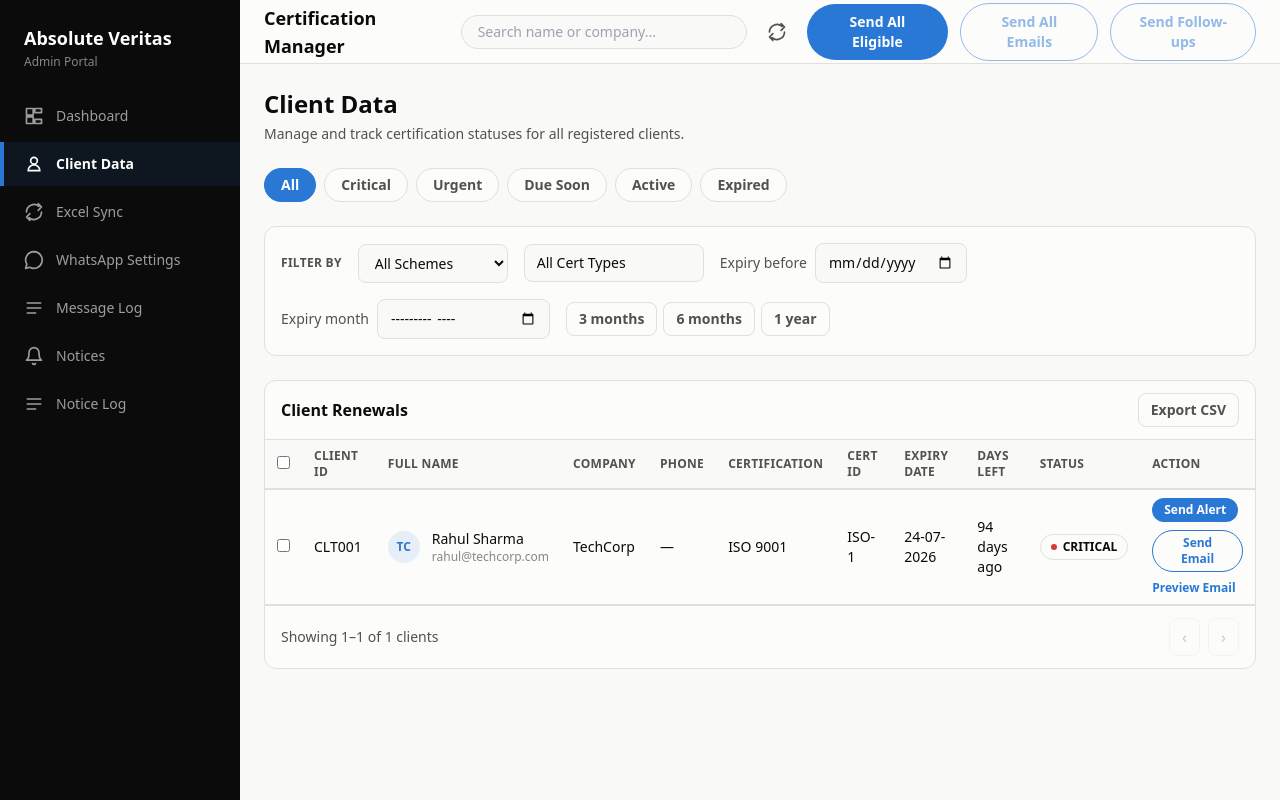
Test case: App › does not send-selected until the confirmation modal is accepted
The width and height of the screenshot is (1280, 800).
Expected: the text "Rahul Sharma" is shown, x1=432 y1=529 x2=524 y2=548
Click the checkbox named "Select Rahul Sharma" at (284, 546), box x1=277 y1=539 x2=290 y2=552
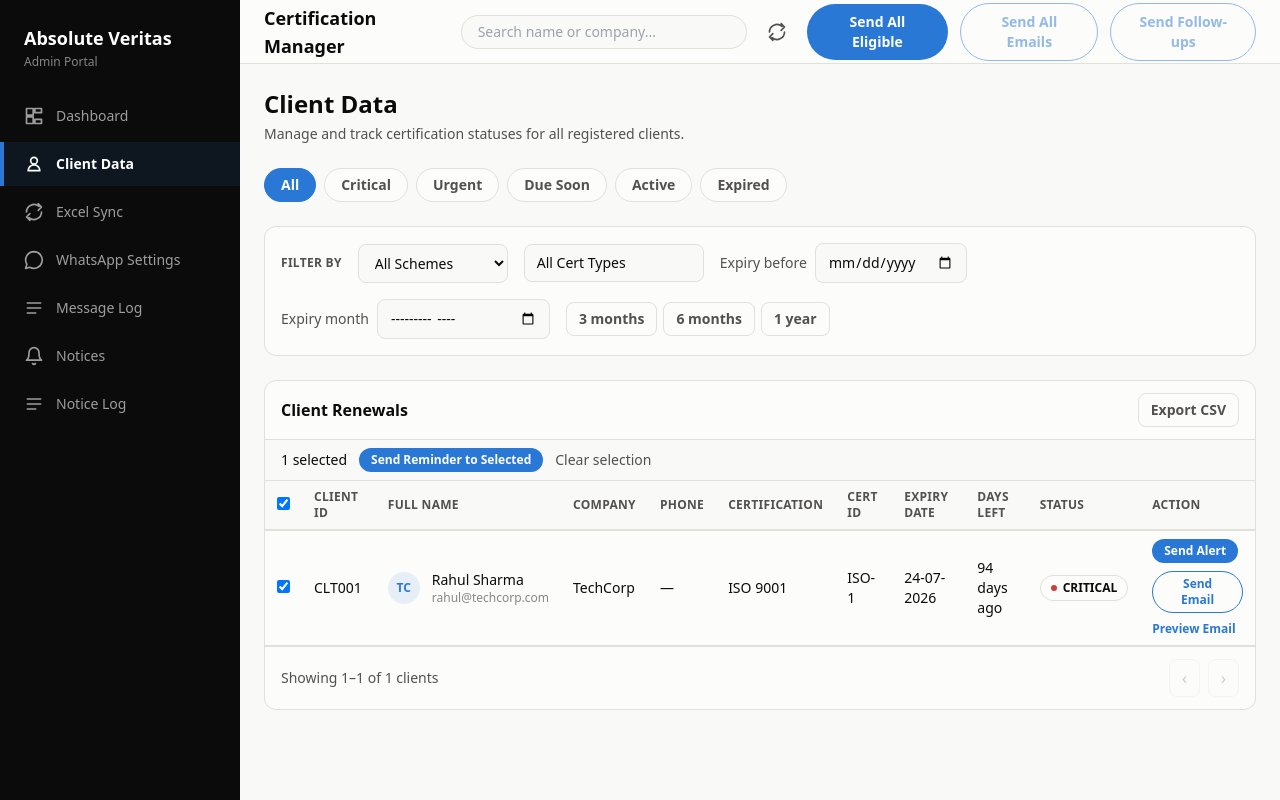
Click the button "Send Reminder to Selected" at (451, 460), box x1=359 y1=448 x2=543 y2=472
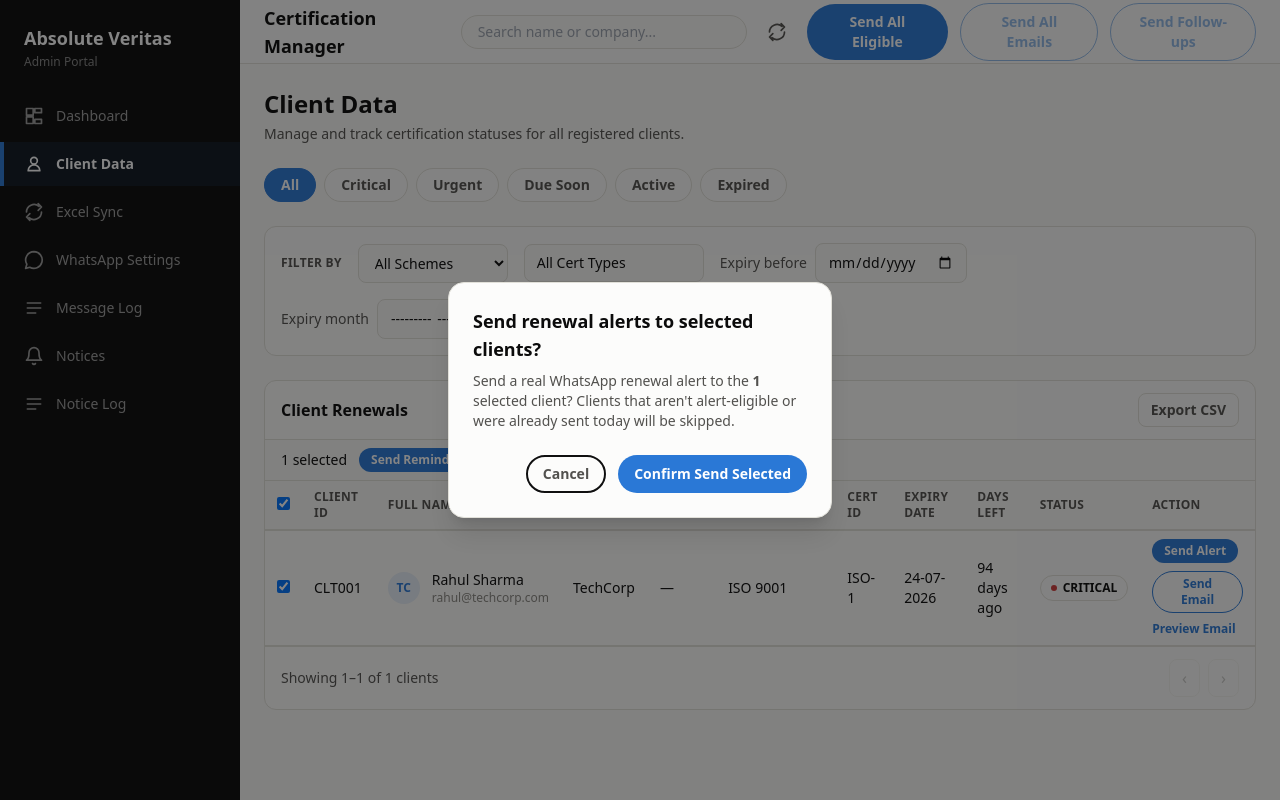
Result: the dialog with test id "send-selected-confirm-modal" is shown
